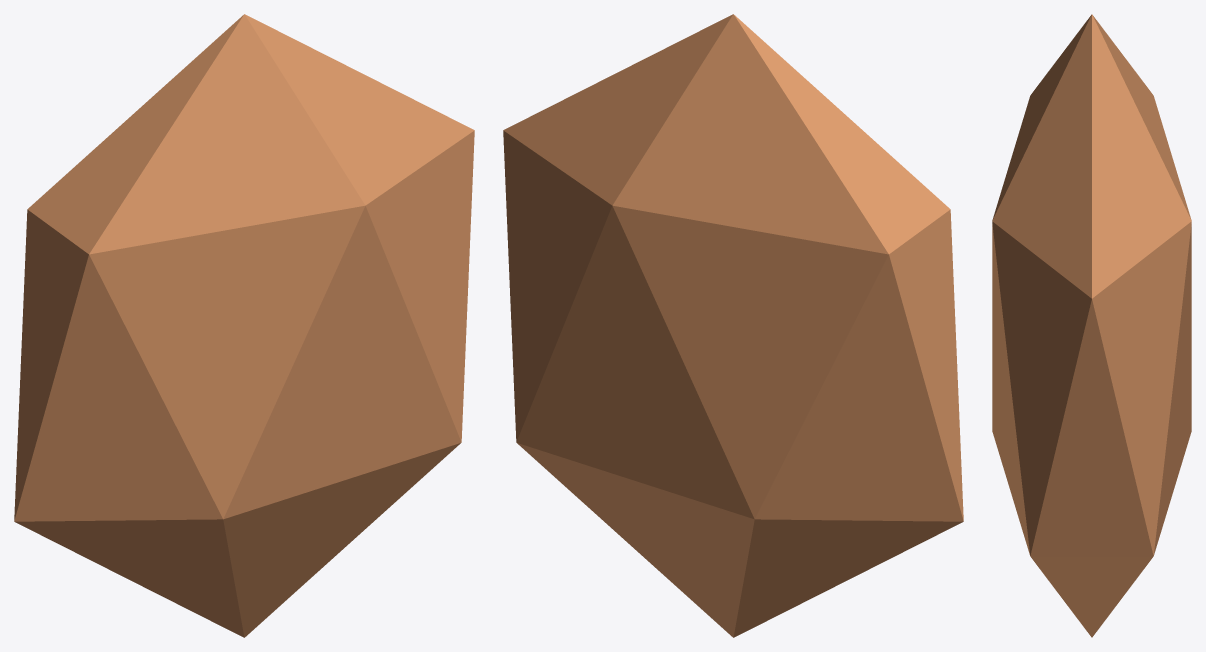
Rendered from wk_soft_tissue_abdomen_v01.glb.
3 renders of one model, left to right at view 1: azimuth 30°, elevation 25°; view 2: azimuth 150°, elevation 25°; view 3: azimuth 270°, elevation 25°, orthographic.
Parts seen in each view (by area): view 1: GEO_SoftTissueAbdomen; view 2: GEO_SoftTissueAbdomen; view 3: GEO_SoftTissueAbdomen.
Part boxes in pixels (x1,y1,x2,y2): GEO_SoftTissueAbdomen: (14,14,474,637); GEO_SoftTissueAbdomen: (503,14,963,637); GEO_SoftTissueAbdomen: (992,14,1191,637).
Size of the model in its own units: 0.3399 by 0.44 by 0.1276.
